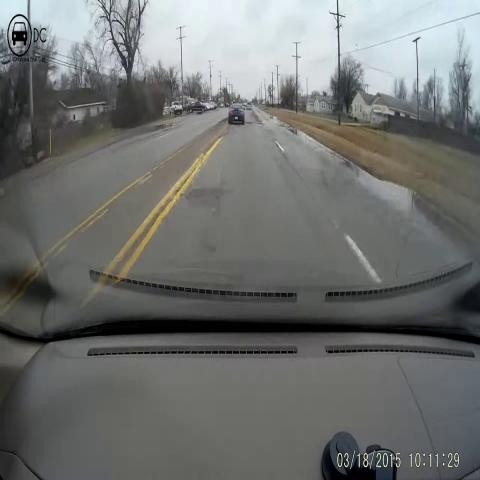pothole: (183, 176, 229, 229), (243, 116, 264, 135)
